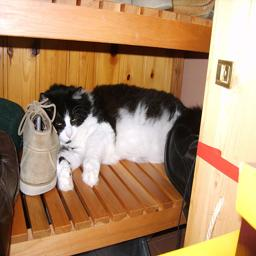cat: (108, 123, 256, 256)
